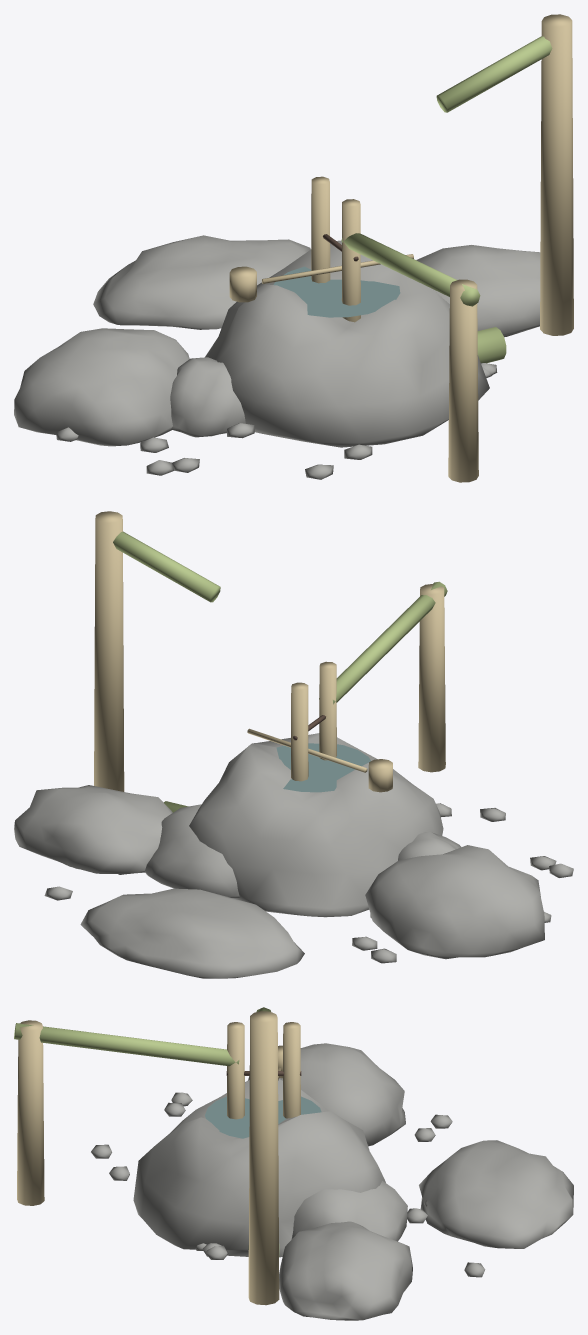
The model's file is tsukubai.glb.
3 renders of one model, top to bottom at view 1: azimuth 30°, elevation 25°; view 2: azimuth 150°, elevation 25°; view 3: azimuth 270°, elevation 25°, orthographic. The views are drawn at different scales.
Visible parts, largest first — view 1: Tsukubai, ShishiBase, ShishiTube; view 2: Tsukubai, ShishiBase; view 3: Tsukubai, ShishiBase.
Boxes of the visible parts, <box> form: Tsukubai: <box>14,233,540,482</box>; ShishiBase: <box>170,14,573,437</box>; ShishiTube: <box>477,327,506,363</box>; Tsukubai: <box>14,581,573,978</box>; ShishiBase: <box>94,511,461,897</box>; Tsukubai: <box>14,1020,573,1320</box>; ShishiBase: <box>226,1007,407,1305</box>.
Bounding box in the file's own units: 1.88 × 1.08 × 1.8.
